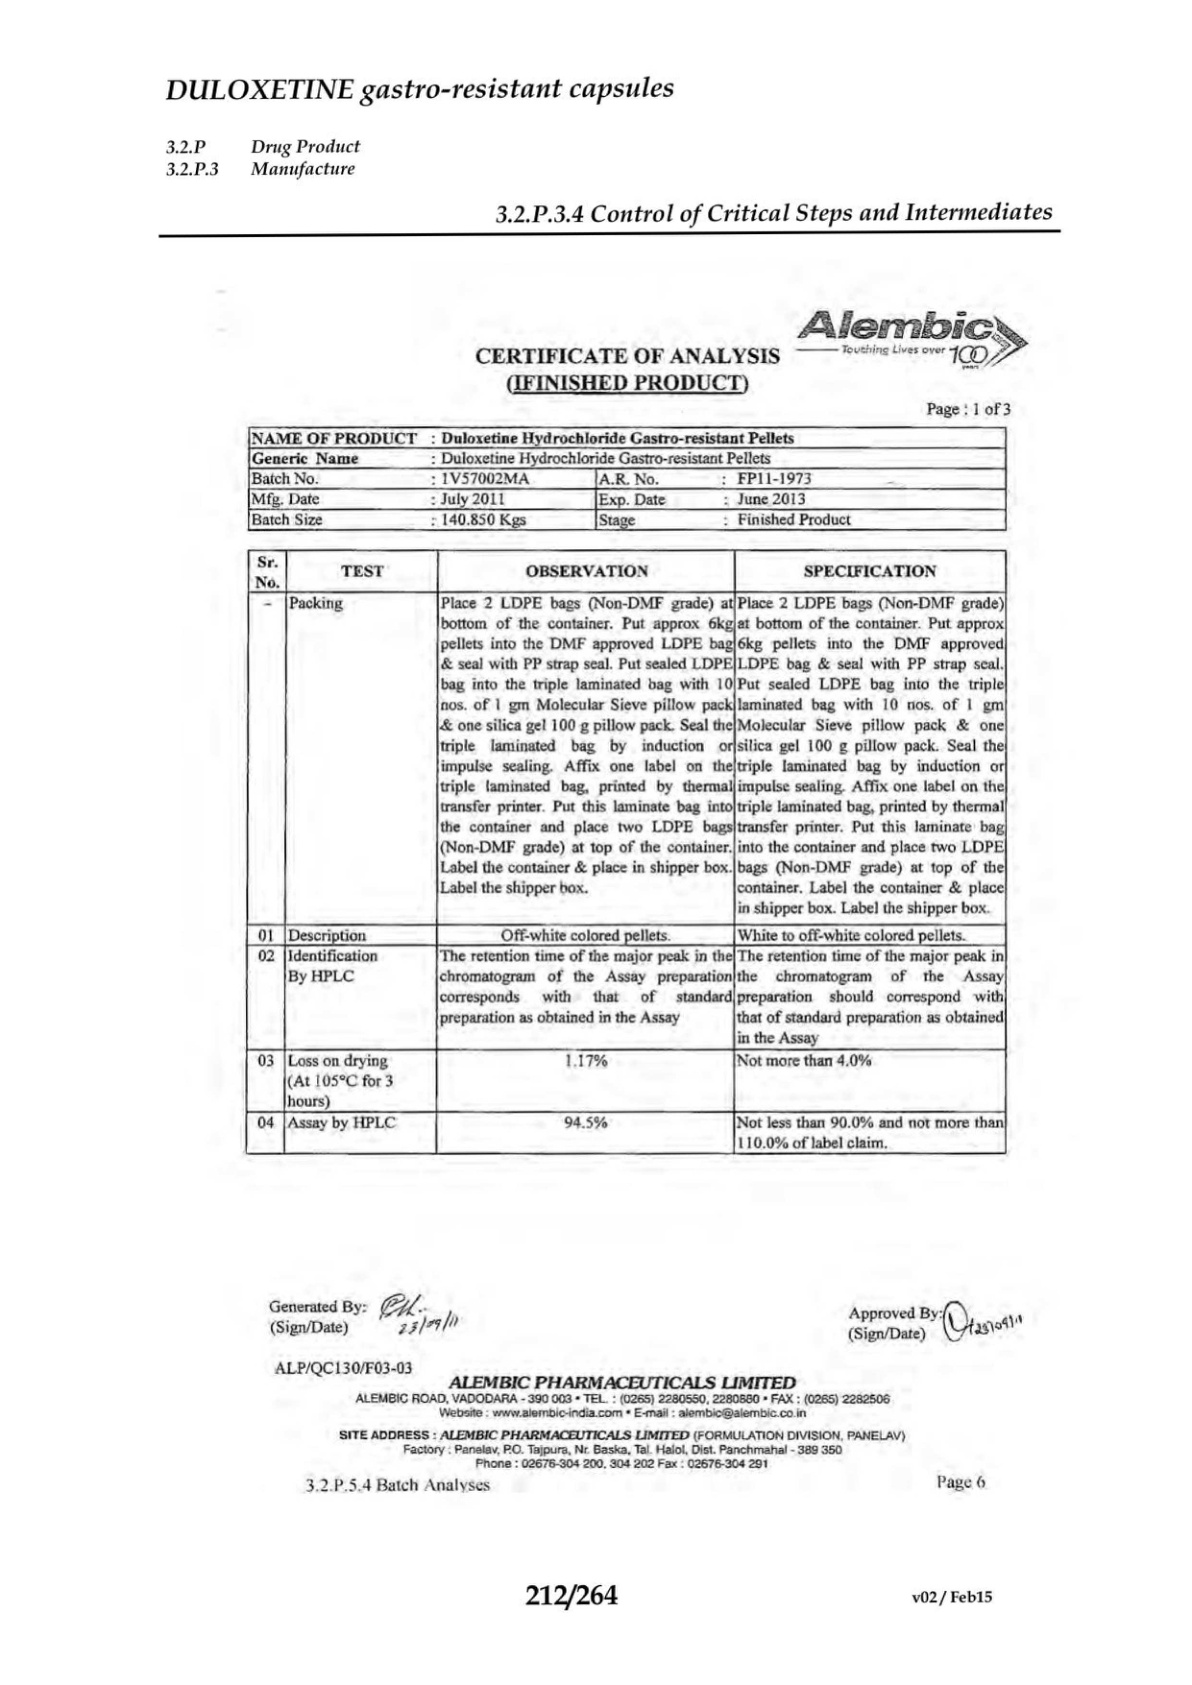full_lined: (246, 548, 1008, 1155)
merged_cells: (246, 424, 1008, 532)
